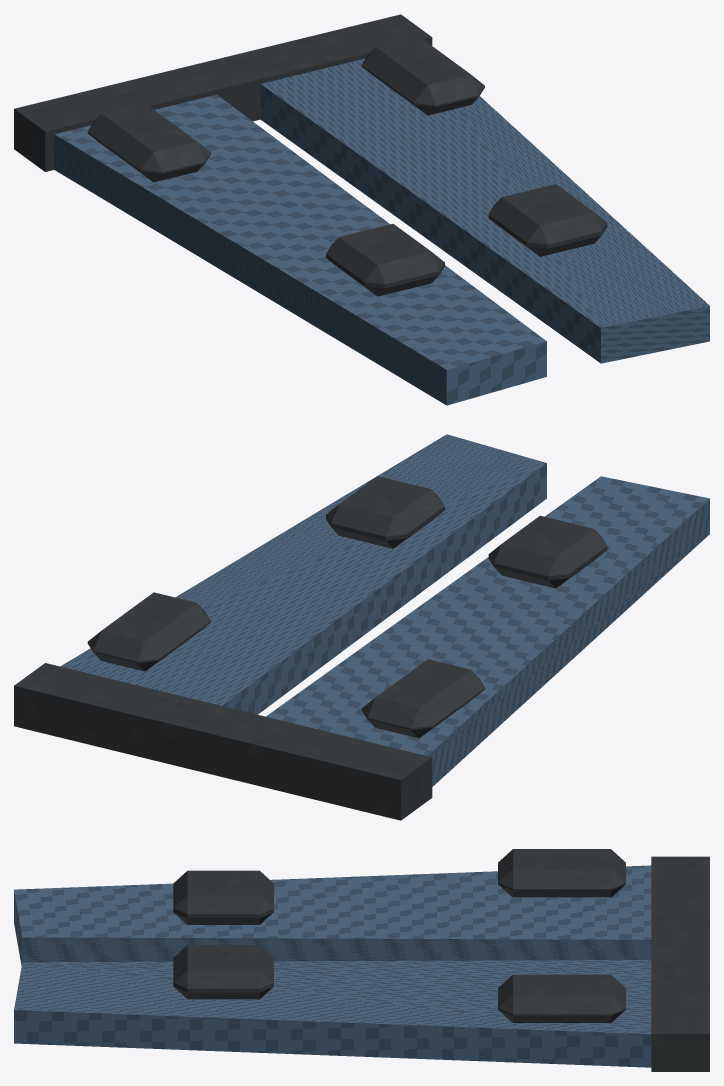
Rendered from motorbike_pants.glb.
The picture shows the model from 3 angles, top to bottom: view 1: azimuth 30°, elevation 25°; view 2: azimuth 150°, elevation 25°; view 3: azimuth 270°, elevation 25°; orthographic projection. The views are drawn at different scales.
Visible parts, largest first — view 1: block_leg panel (×2), block_waist belt, block_padded flank (×2), block_integral knee pad (×2); view 2: block_leg panel (×2), block_waist belt, block_padded flank (×2), block_integral knee pad (×2); view 3: block_leg panel (×2), block_waist belt, block_padded flank (×2), block_integral knee pad (×2).
Boxes of the visible parts, x1,y1,x2,y2 form: block_leg panel (×2): (54, 58, 709, 405); block_waist belt: (14, 14, 432, 171); block_padded flank (×2): (87, 36, 484, 182); block_integral knee pad (×2): (326, 184, 607, 296); block_leg panel (×2): (60, 434, 709, 786); block_waist belt: (14, 663, 432, 820); block_padded flank (×2): (87, 592, 484, 738); block_integral knee pad (×2): (326, 476, 607, 588); block_leg panel (×2): (14, 865, 651, 1067); block_waist belt: (651, 856, 709, 1071); block_padded flank (×2): (498, 849, 625, 1022); block_integral knee pad (×2): (173, 870, 273, 999).
Size of the model in its own units: 0.4309 by 0.0715 by 0.7152.
1 material, 1 textured.
